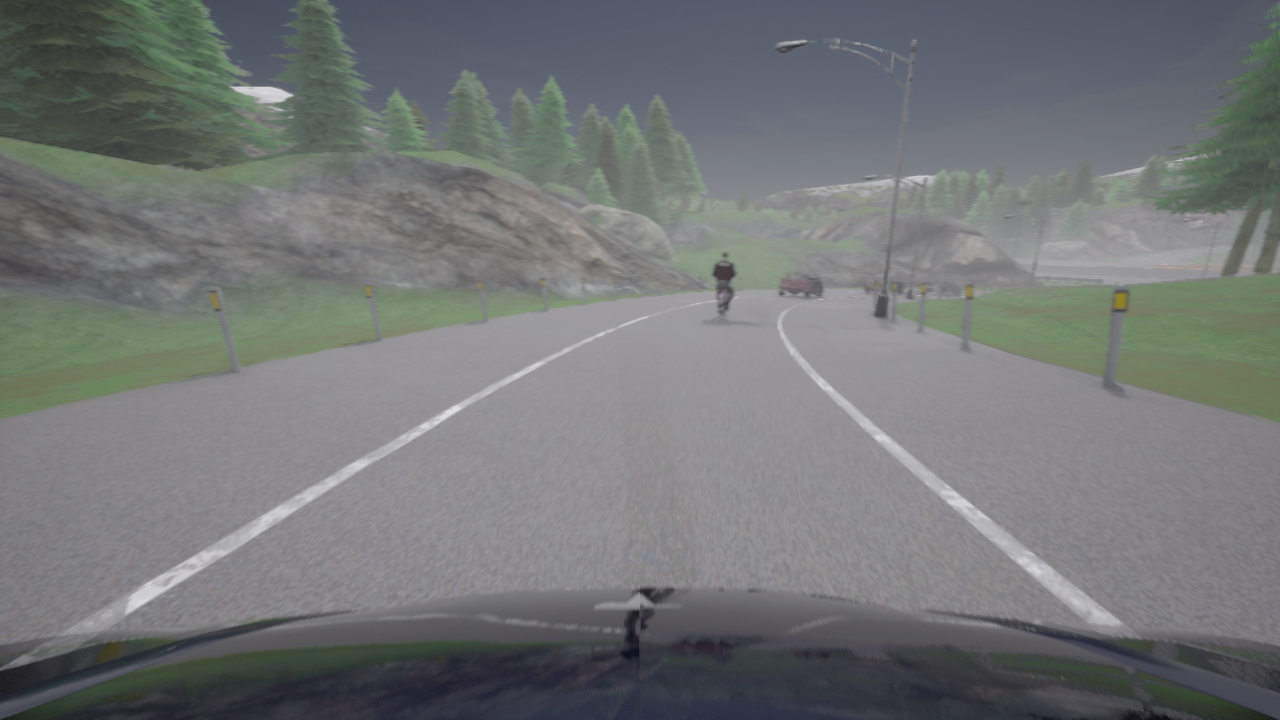cyclist: (0, 588, 1279, 719), (778, 269, 822, 298), (865, 275, 903, 294), (925, 277, 961, 295), (717, 290, 726, 322)
